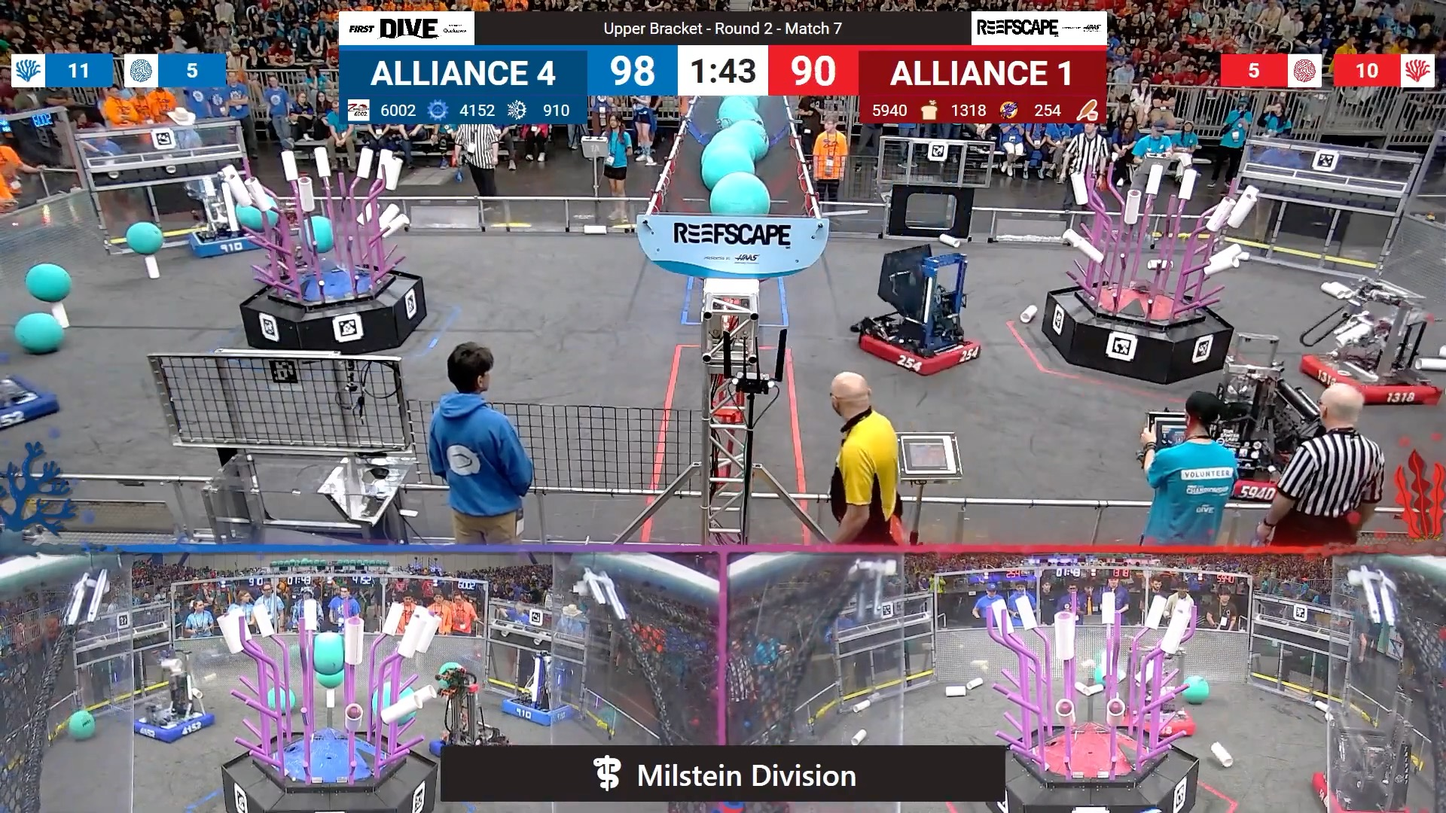bumpers: (1291, 348, 1443, 411), (847, 321, 984, 378), (1310, 765, 1423, 813), (0, 376, 66, 438), (124, 705, 221, 747), (180, 222, 279, 262), (1109, 702, 1199, 739), (497, 695, 579, 730)
